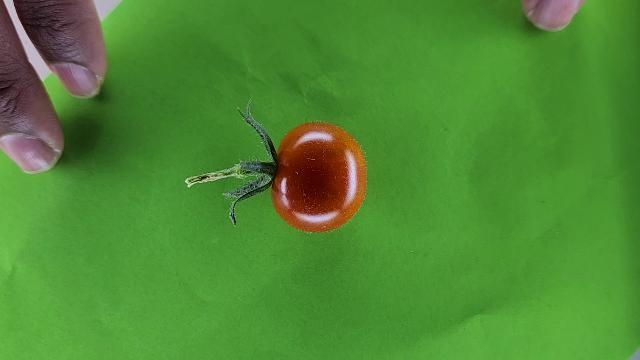Fully Grown: (269, 121, 370, 234)
